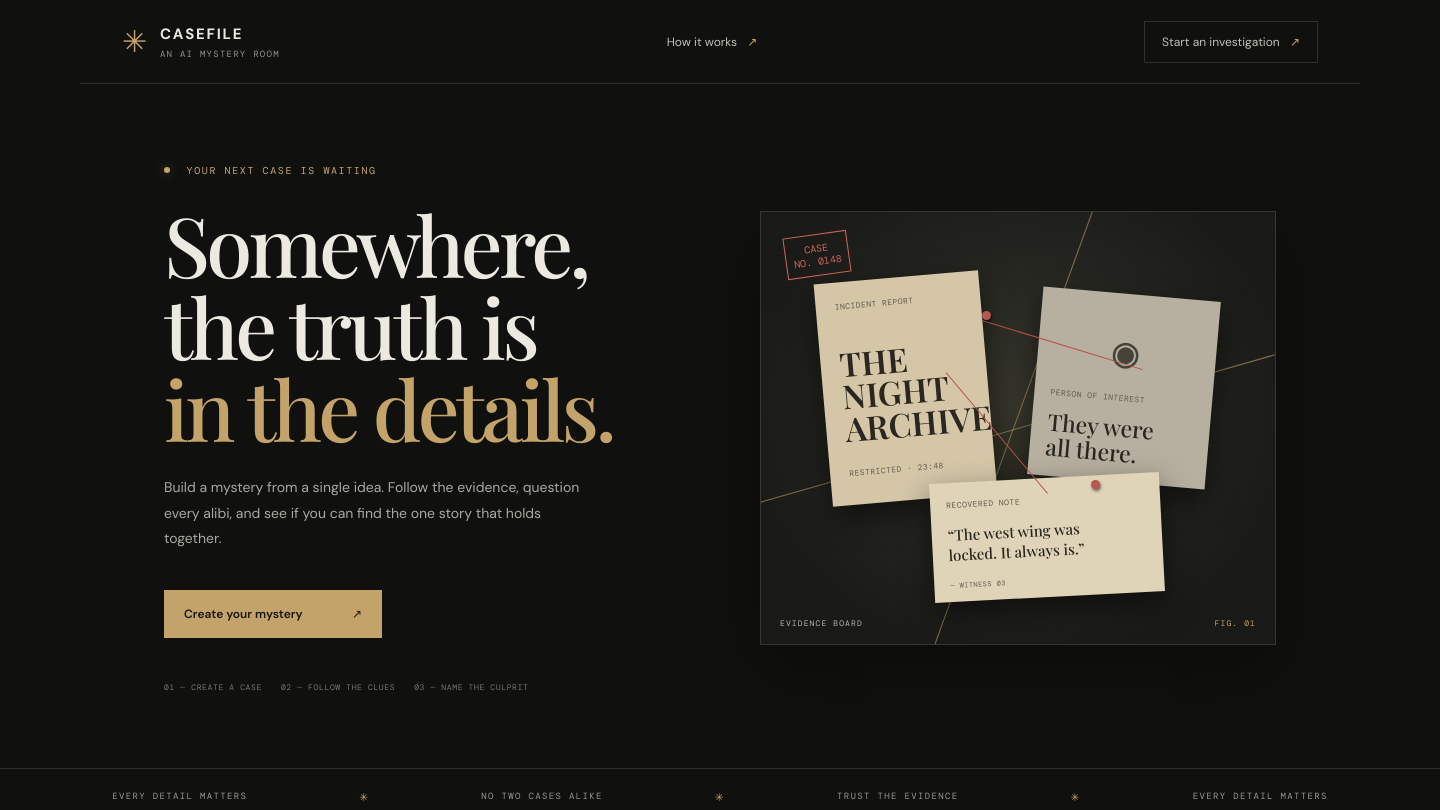
mystery room navigation and creation › shows the product introduction and routes to case creation
The width and height of the screenshot is (1440, 810).
Expected: the heading "Somewhere" is shown, [164,203,680,450]
Click the link "Create your mystery ↗". click: (273, 614)
box: [164,590,382,638]
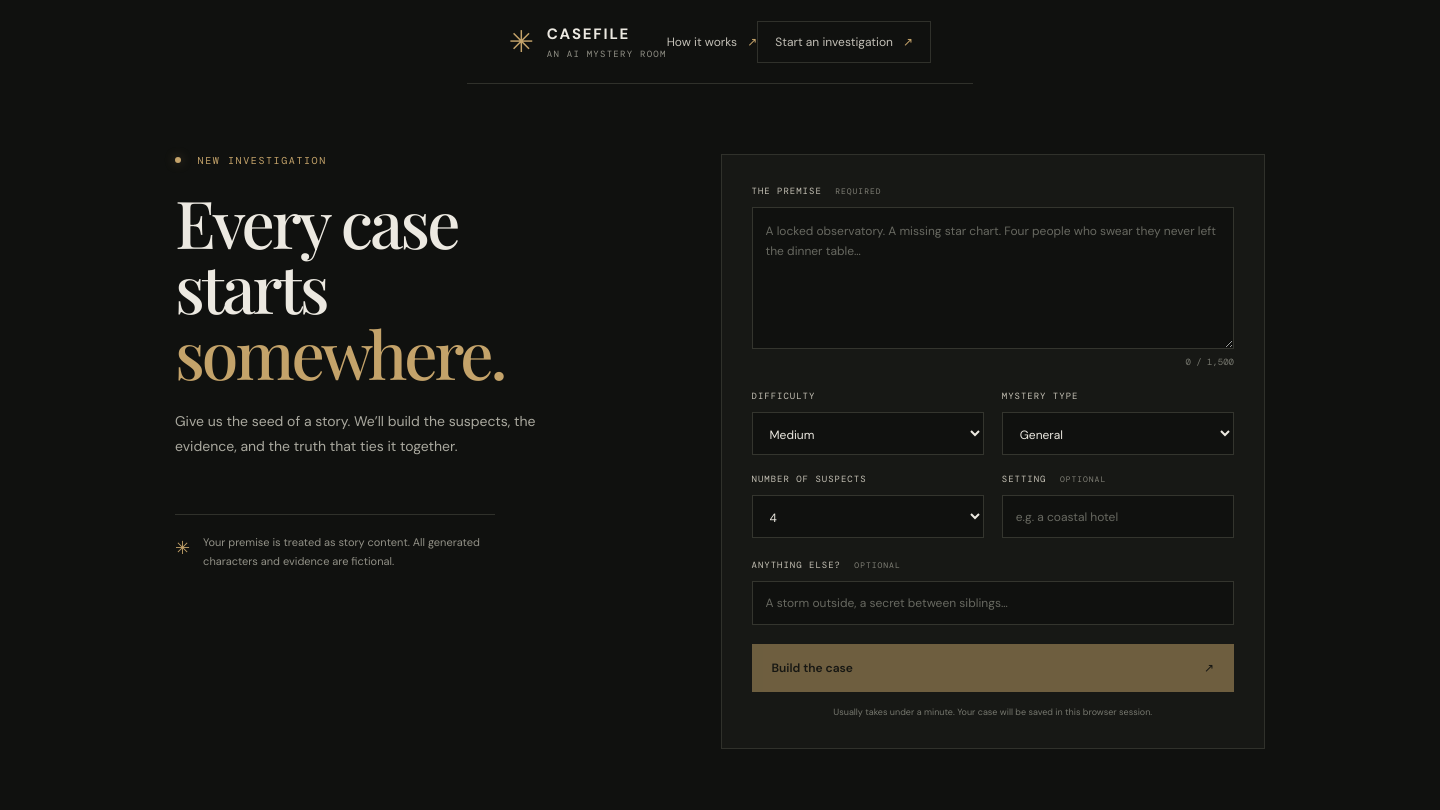
Result: the heading named "every case starts" is shown at [175,178,505,397]
Result: the text box labelled "THE PREMISE REQUIRED" is shown at [752,207,1234,349]
